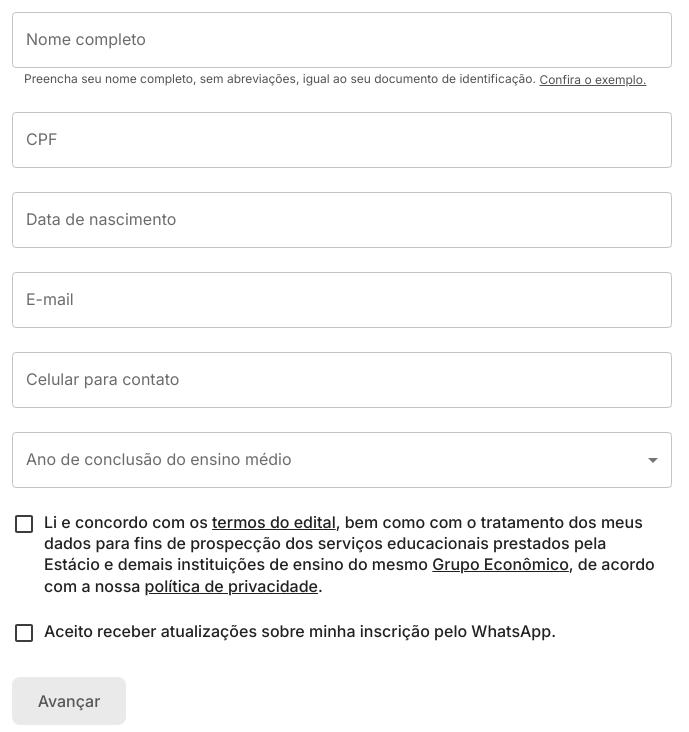
PersonalDataForm › masks the phone number as it is typed
The image size is (689, 732).
Step 1. Type "11987654321" into the field labelled "Celular para contato" → x=342, y=380, box [12, 352, 672, 408]
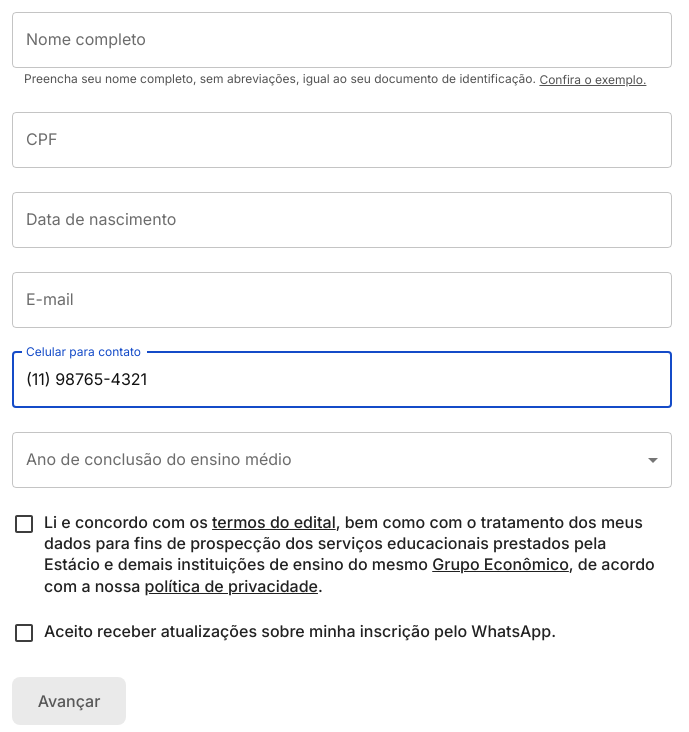
expect the field labelled "Celular para contato" holds "(11) 98765-4321": met, box [12, 352, 672, 408]
